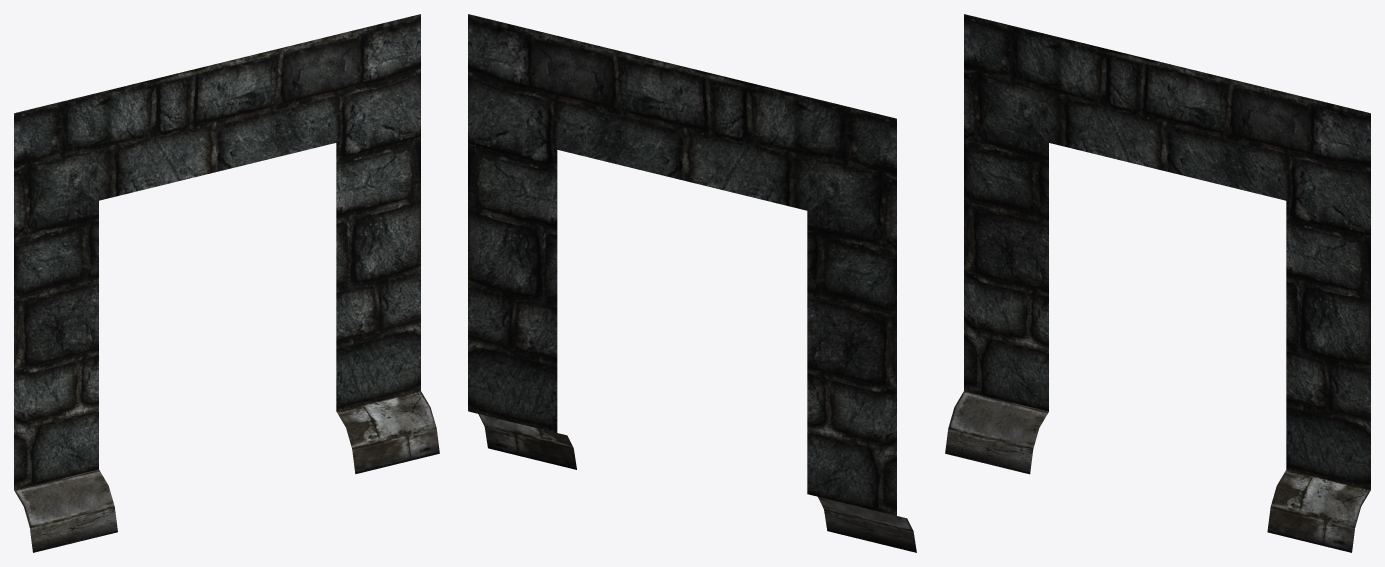
The model's file is door_way_square_brick.dae.
The picture shows the model from 3 angles, left to right: view 1: azimuth 30°, elevation 25°; view 2: azimuth 150°, elevation 25°; view 3: azimuth 330°, elevation 25°; orthographic projection. The views are drawn at different scales.
Visible parts, largest first — view 1: polySurface117, polySurface120; view 2: polySurface117, polySurface120; view 3: polySurface117, polySurface120.
Part boxes in pixels (<box>): polySurface117: <box>14,14,420,489</box>; polySurface120: <box>14,391,439,552</box>; polySurface117: <box>468,14,896,515</box>; polySurface120: <box>478,414,916,552</box>; polySurface117: <box>964,14,1370,489</box>; polySurface120: <box>945,391,1370,552</box>.
Size of the model in its own units: 4 by 4 by 0.3219.
